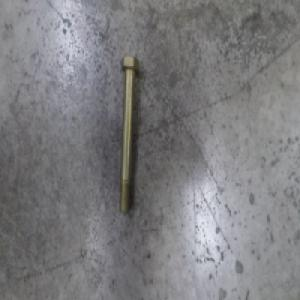Bolt: (118, 52, 140, 218)
